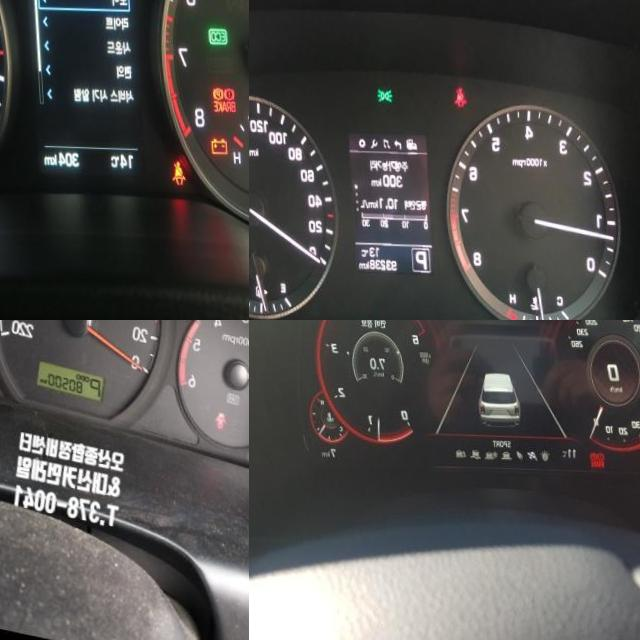Doors: (210, 407, 224, 427)
SideLamp: (374, 83, 392, 101)
